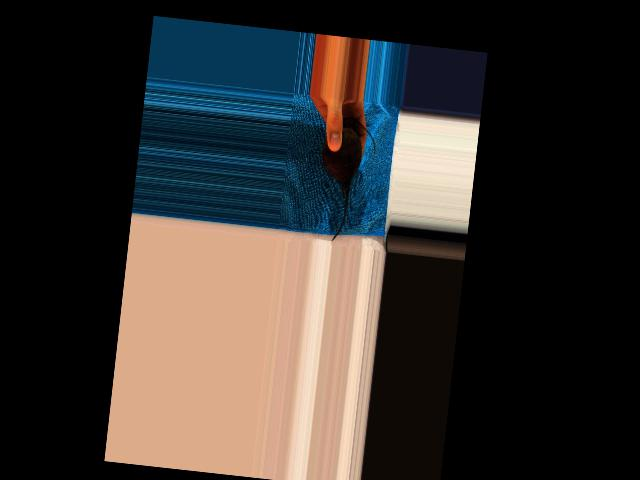beet: (311, 115, 377, 245)
